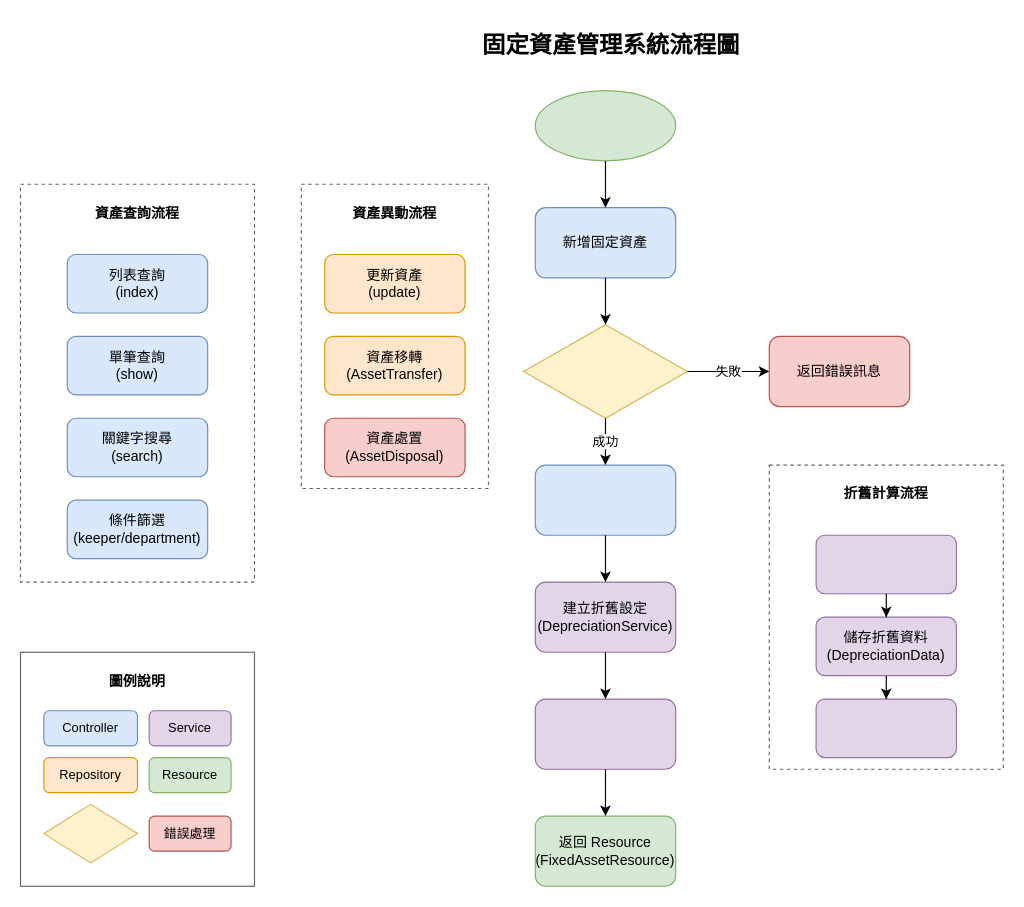
The diagram is 1024 pixels wide and 907 high, and some of its shapes have lost their labels. Each missing label, with the centre of its shape:
儲存固定資產 (Repository): point (605, 499)
建立異動記錄 (AssetTransactionService): point (605, 733)
折舊作業 (DepreciationOperation): point (885, 728)
計算折舊 (DepreciationService): point (885, 564)
資料驗證 (Controller): point (604, 371)
開始: point (605, 125)
驗證/決策: point (90, 833)
